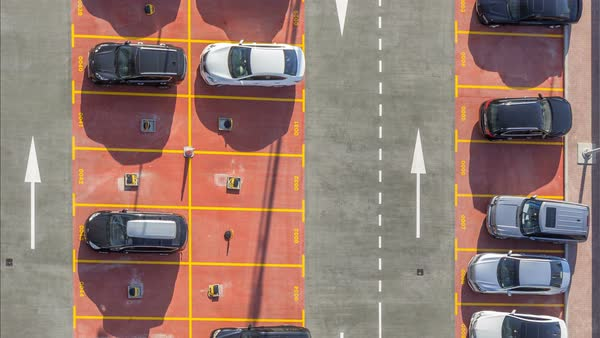car: (195, 37, 308, 89), (463, 248, 574, 300), (484, 192, 592, 245), (75, 207, 188, 254), (85, 39, 190, 87), (480, 92, 575, 141), (465, 307, 569, 337)
